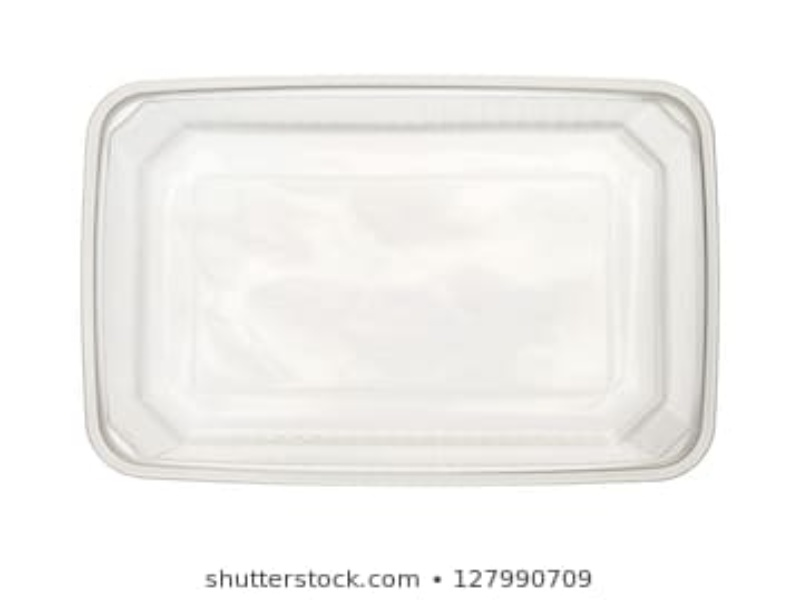plastic-tray: (79, 78, 728, 488)
